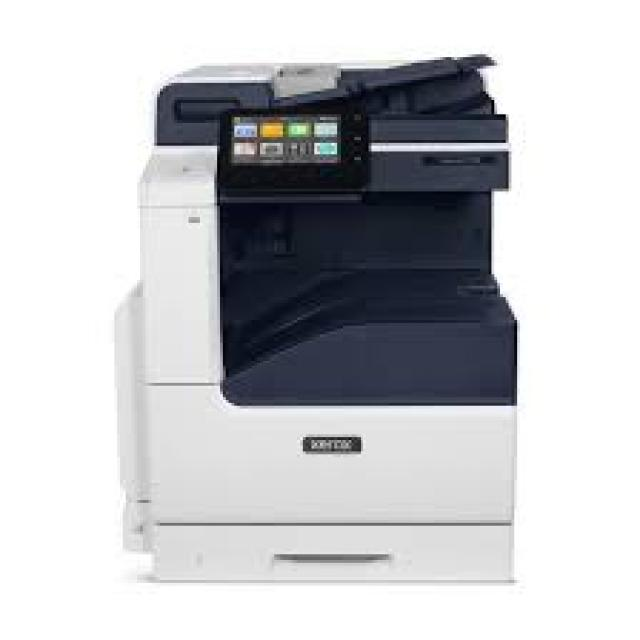printer: (54, 7, 596, 609)
